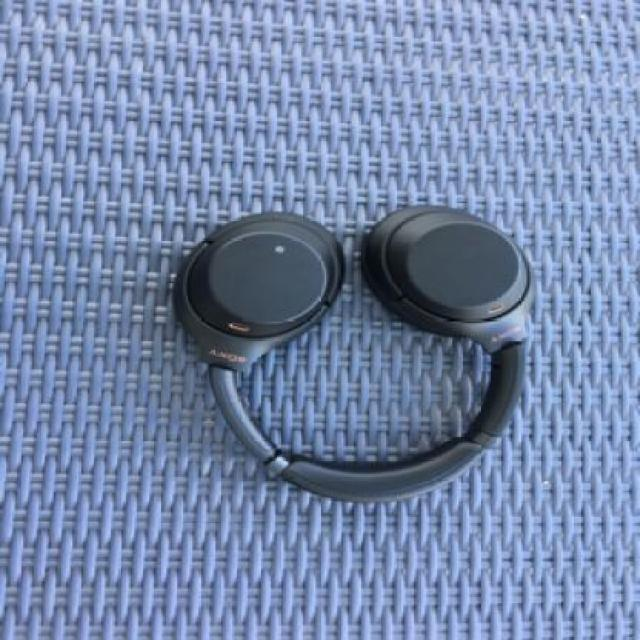earphone: (178, 152, 545, 545)
